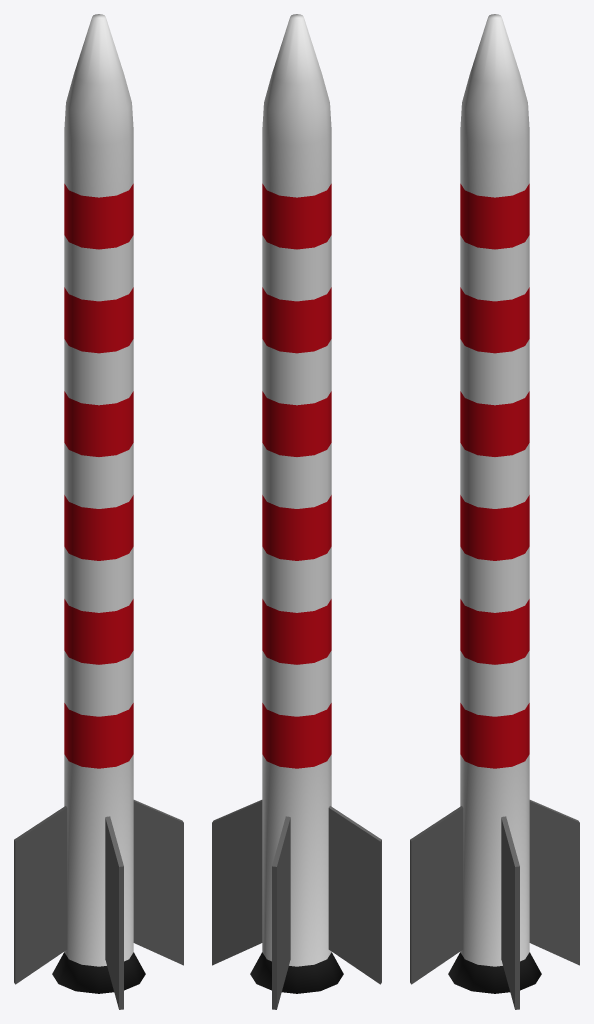
Rendered from Rocket.fbx.
The picture shows the model from 3 angles, left to right: view 1: azimuth 90°, elevation 25°; view 2: azimuth 150°, elevation 25°; view 3: azimuth 270°, elevation 25°; orthographic projection.
Visible parts, largest first — view 1: Cylinder.001; view 2: Cylinder.001; view 3: Cylinder.001.
Part boxes in pixels (x1,y1,x2,y2): Cylinder.001: (14, 14, 183, 1009); Cylinder.001: (212, 14, 381, 1009); Cylinder.001: (410, 14, 579, 1009).
Size of the model in its own units: 61.06 by 380 by 61.06.
